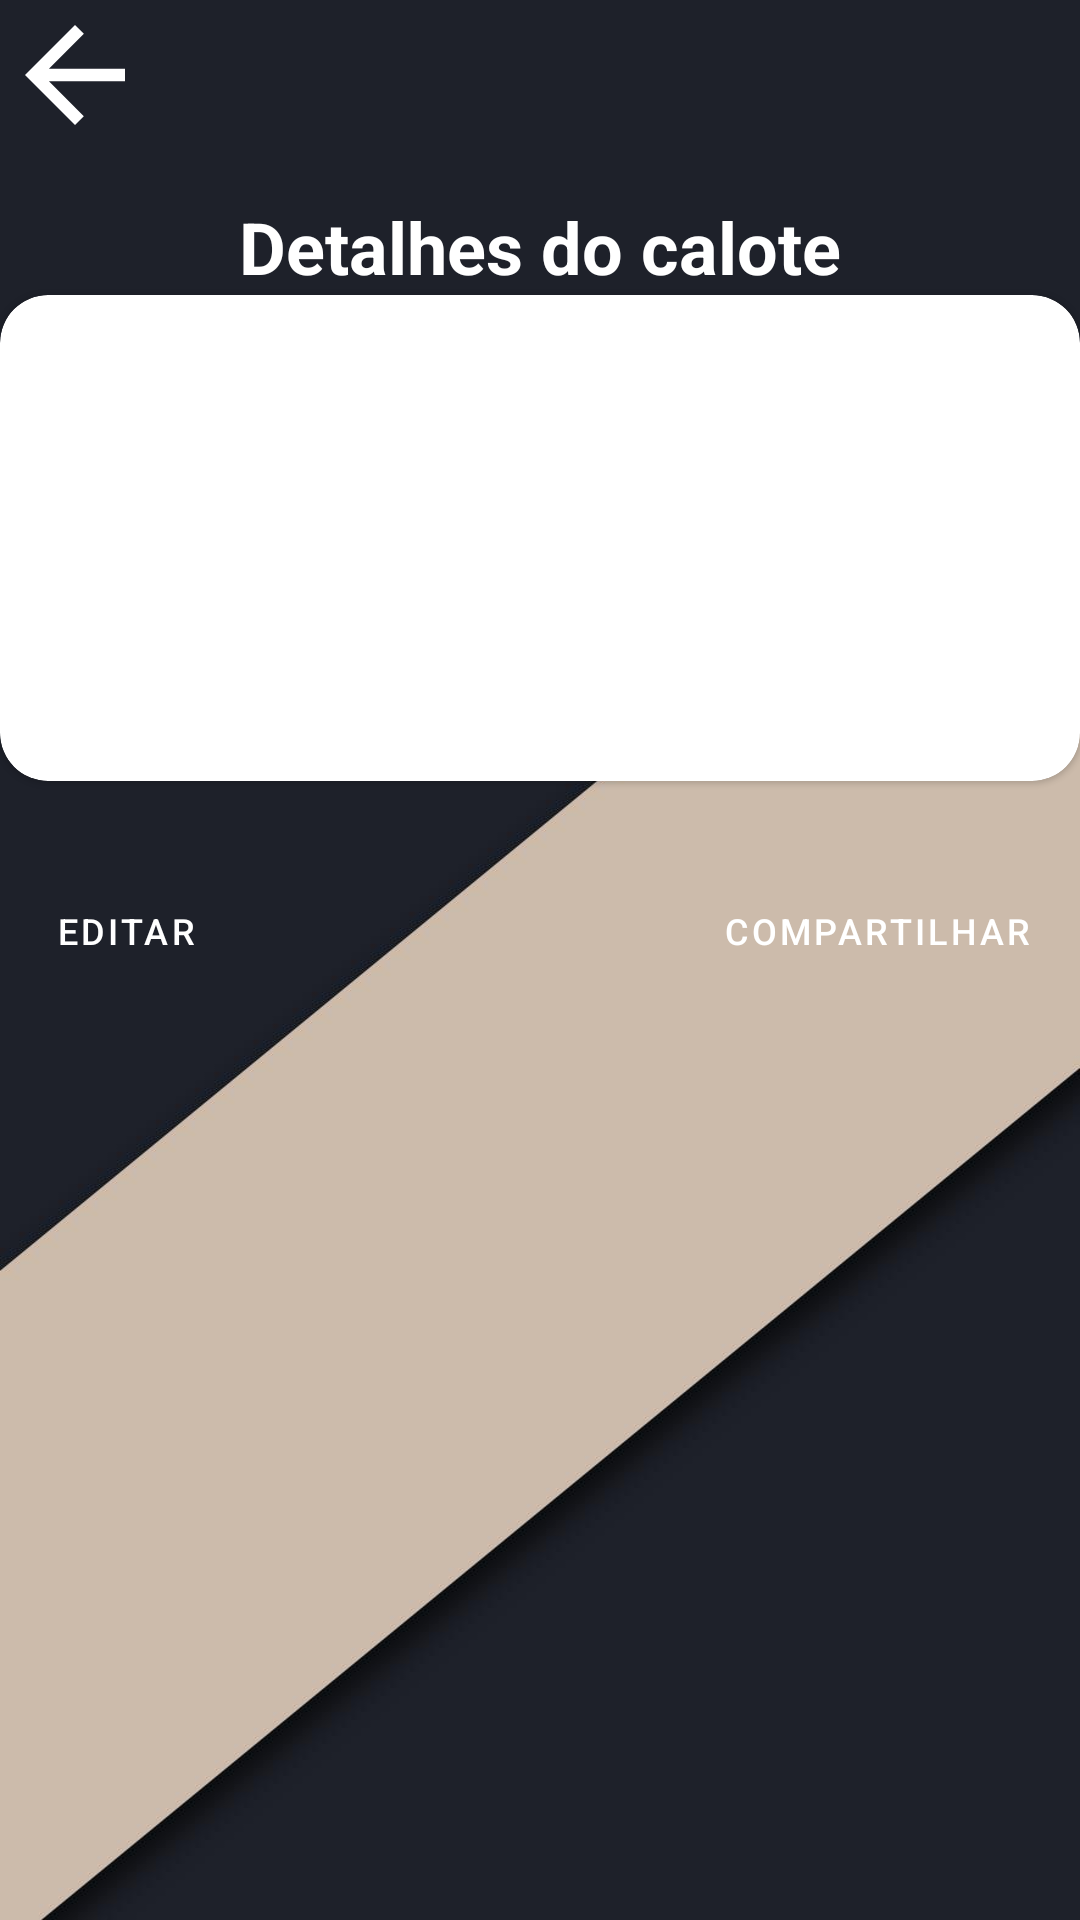

Icon click points for this 1080 × 1920 phone screenshot, format (x,y):
voltar: (75,75)
